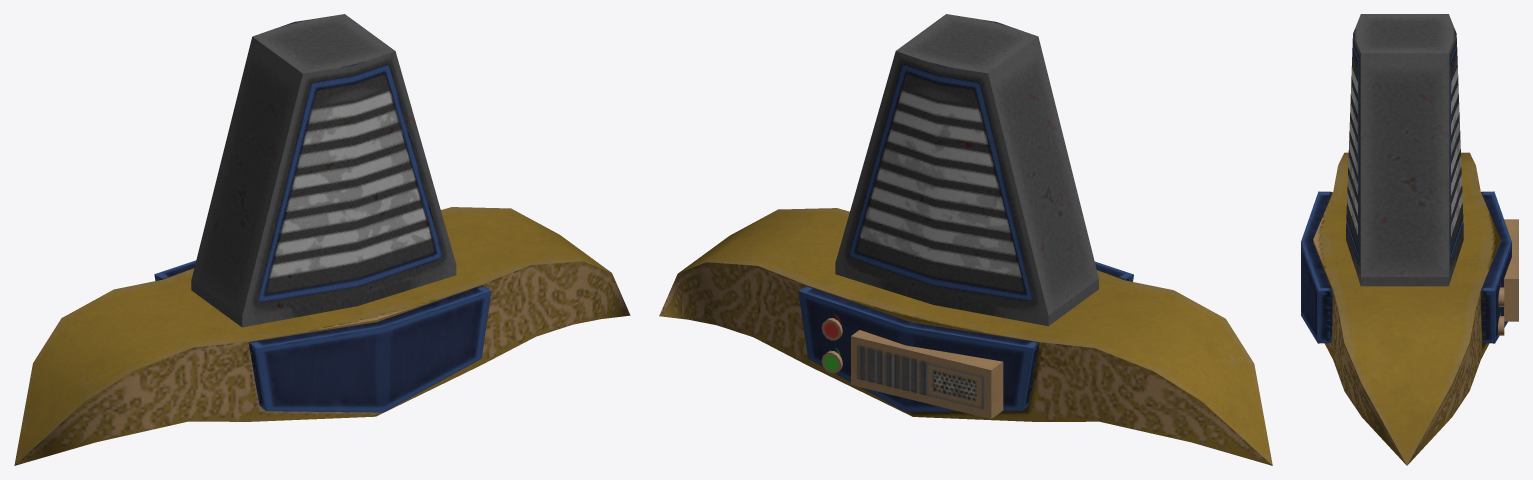
Rendered from vibroblade_guard.fbx.
3 renders of one model, left to right at view 1: azimuth 30°, elevation 25°; view 2: azimuth 150°, elevation 25°; view 3: azimuth 270°, elevation 25°, orthographic. The views are drawn at different scales.
Visible parts, largest first — view 1: vibroblade_guard; view 2: vibroblade_guard; view 3: vibroblade_guard.
Part boxes in pixels (x1,y1,x2,y2): vibroblade_guard: [14, 14, 630, 465]; vibroblade_guard: [659, 14, 1272, 465]; vibroblade_guard: [1301, 14, 1518, 465].
Bounding box in the file's own units: 15.12 × 8.16 × 5.34.
